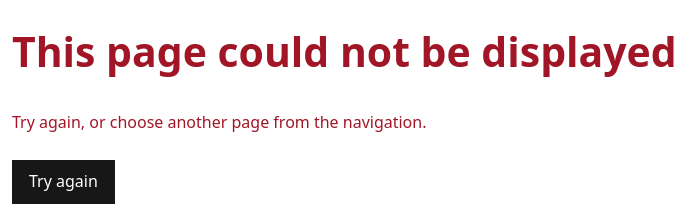
rendering error boundary › lets the customer try the same page again
Click the button "Try again": (63, 182) [12,160,115,204]
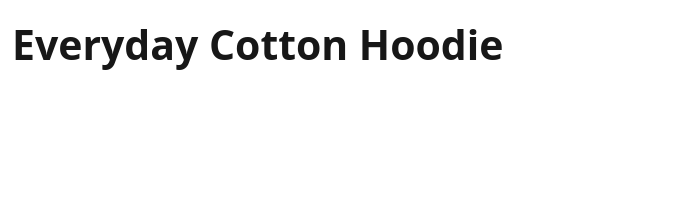
Expected: the heading "Everyday Cotton Hoodie" is shown, [12,16,504,72]
